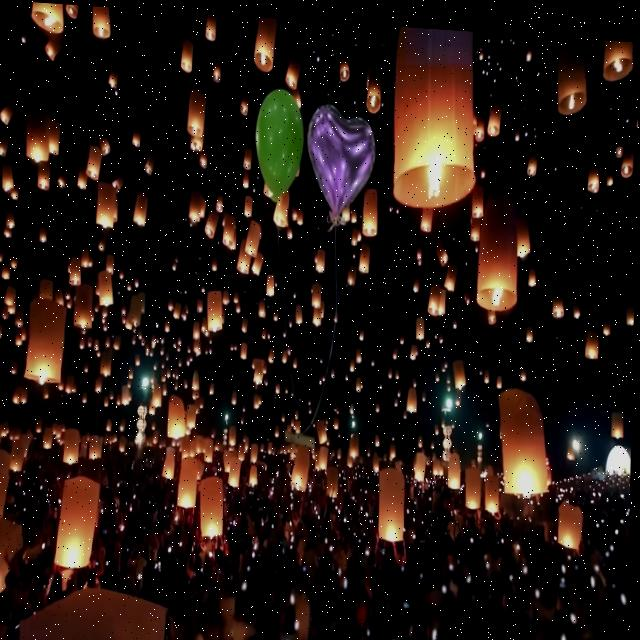balloon: (308, 99, 376, 218), (257, 86, 303, 192)
